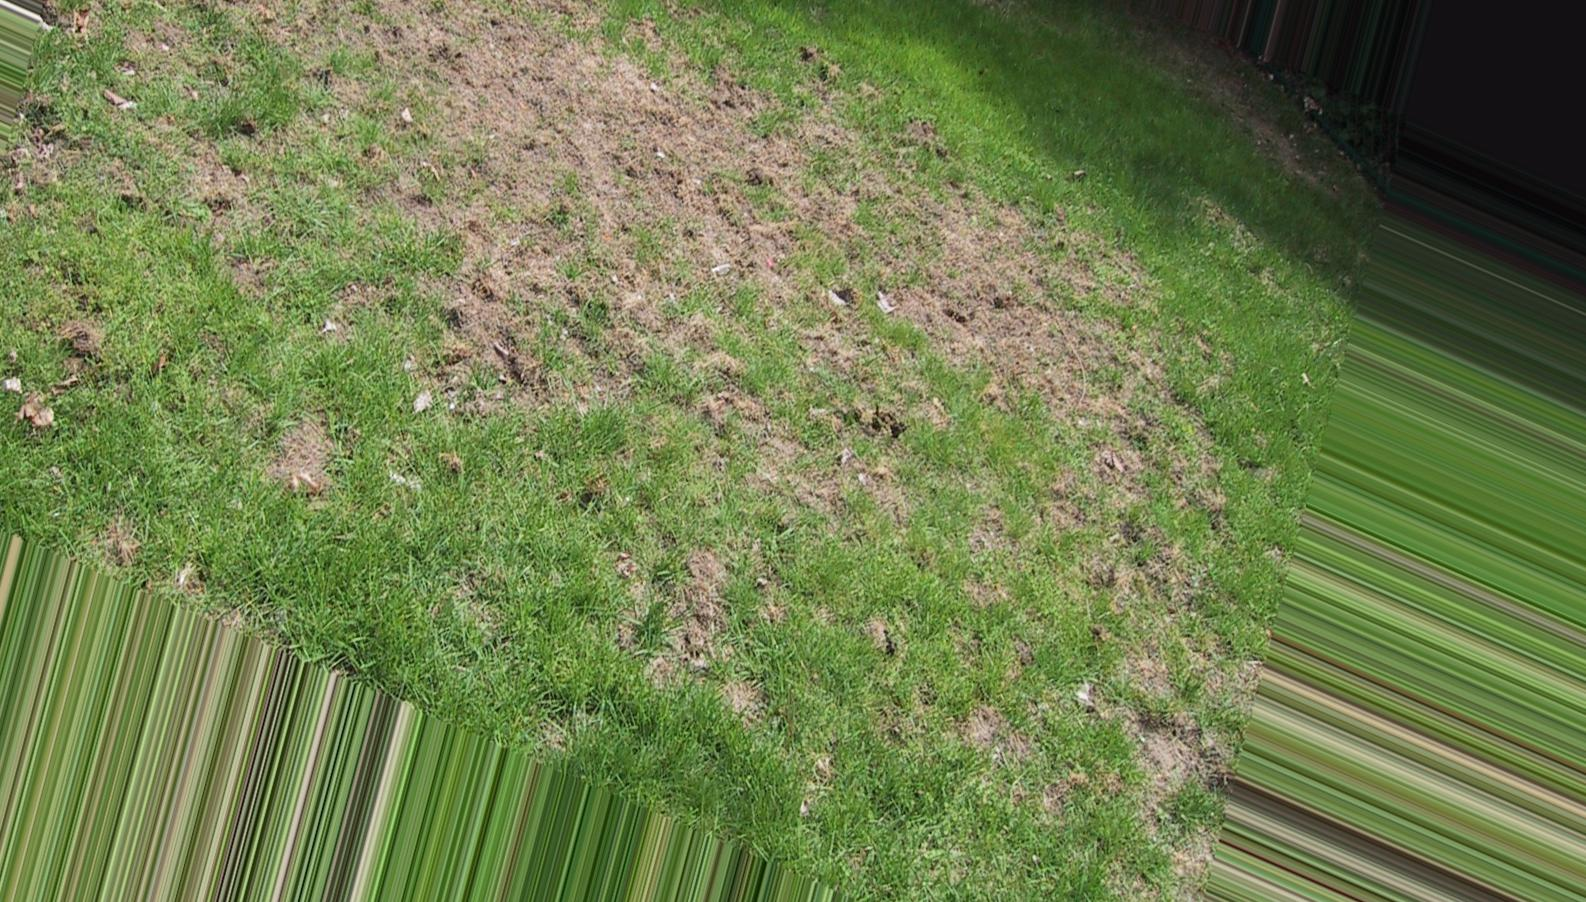patch: (364, 24, 995, 461)
